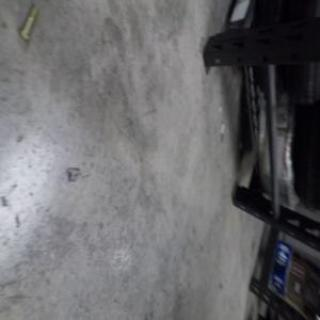Bolttrack_idkeyframe: (18, 2, 38, 42)
